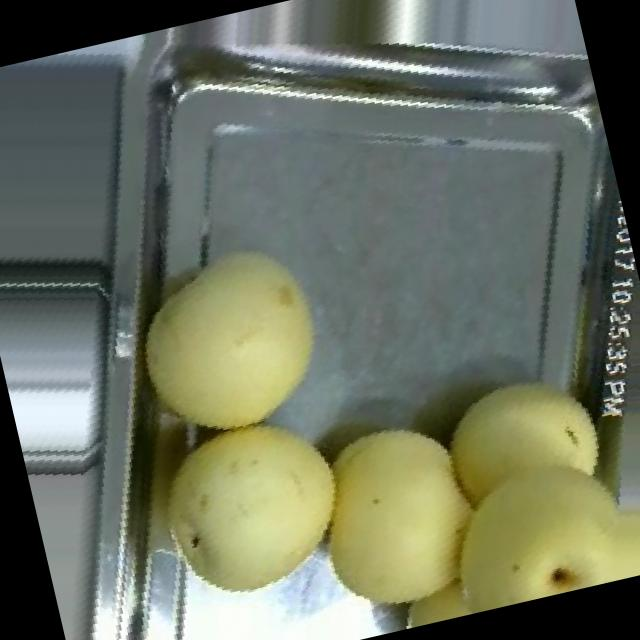Fruit: (350, 318, 640, 628), (91, 202, 371, 484), (115, 381, 386, 640), (275, 368, 520, 640)
